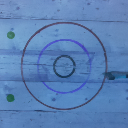Axe Tip: (101, 72, 114, 74)
